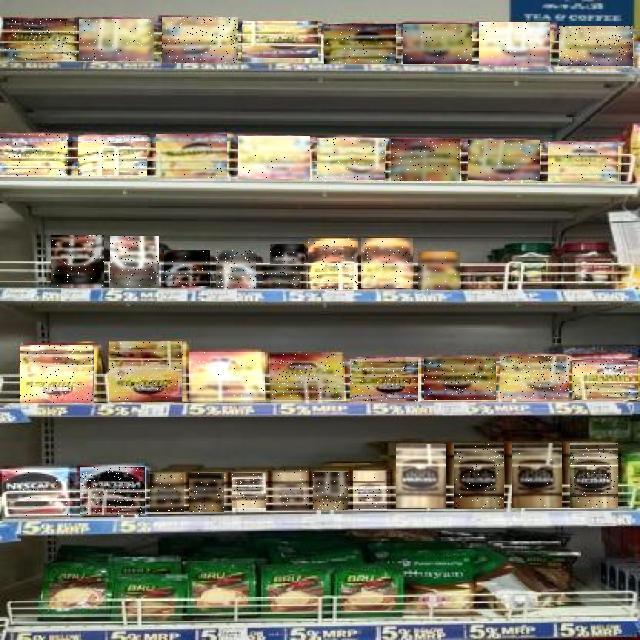Coffee: (110, 341, 186, 402), (21, 345, 95, 403), (189, 352, 265, 400), (162, 17, 238, 63), (270, 354, 344, 400), (454, 443, 504, 509), (2, 470, 70, 518), (513, 443, 563, 508), (396, 444, 446, 508), (80, 19, 156, 61), (156, 134, 227, 178), (479, 22, 550, 66), (570, 443, 618, 508), (80, 467, 145, 515), (238, 136, 310, 179), (424, 357, 496, 400), (242, 22, 318, 62), (4, 18, 76, 60), (500, 356, 569, 399), (559, 26, 633, 66), (1, 133, 69, 176), (391, 139, 460, 181), (468, 140, 540, 180), (324, 25, 396, 65), (317, 138, 385, 180), (350, 359, 418, 401), (78, 135, 147, 176), (403, 24, 472, 64), (51, 236, 104, 288), (548, 142, 618, 181), (573, 360, 639, 400), (361, 238, 413, 288), (308, 238, 358, 290), (110, 237, 159, 289), (164, 251, 210, 287), (418, 252, 460, 290), (216, 250, 256, 288), (354, 470, 390, 510), (273, 470, 309, 510), (190, 473, 226, 512), (314, 472, 350, 510), (232, 474, 266, 512), (150, 474, 184, 512), (263, 267, 300, 288), (270, 244, 304, 264)
